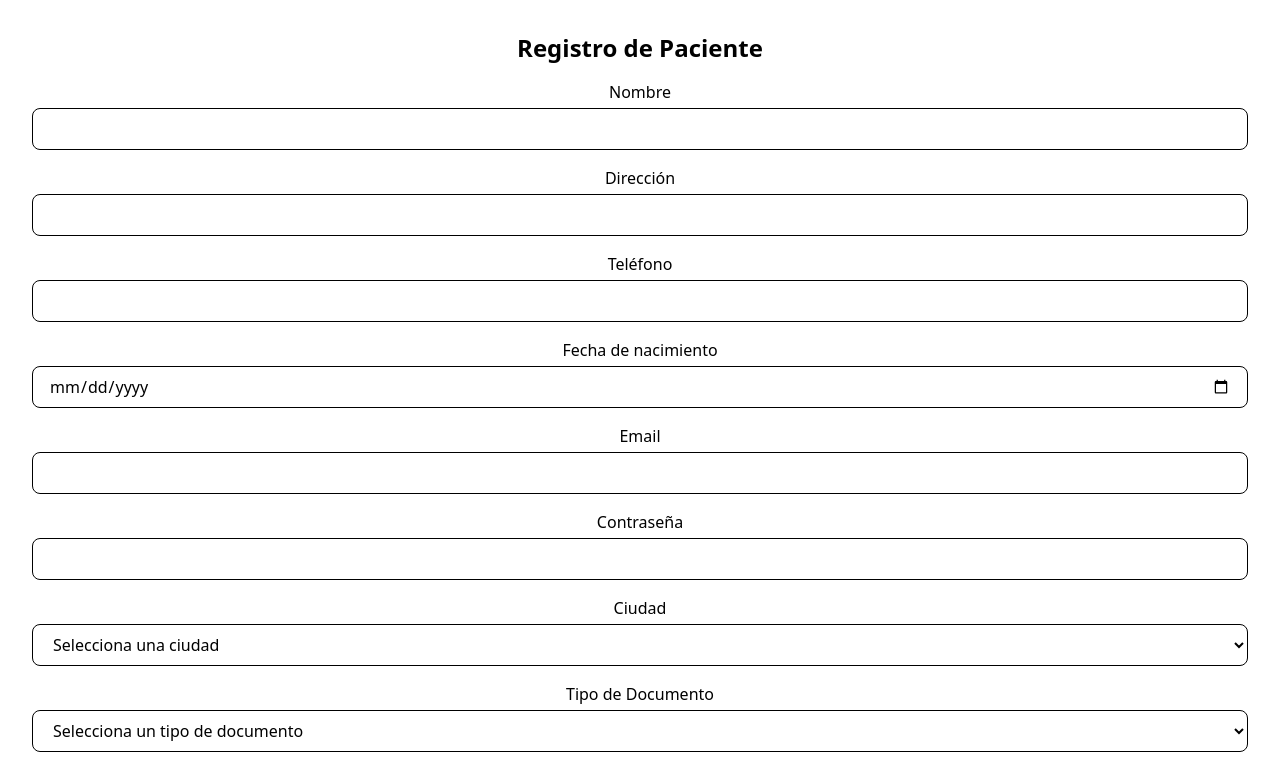
Scenario: RegistroForm › muestra feedback si el teléfono tiene menos de 10 dígitos y feedbackTel es false
Ingresa un teléfono con menos de 10 dígitos
Type "123" into the number field labelled "Teléfono" at (640, 301), box [32,280,1248,322]
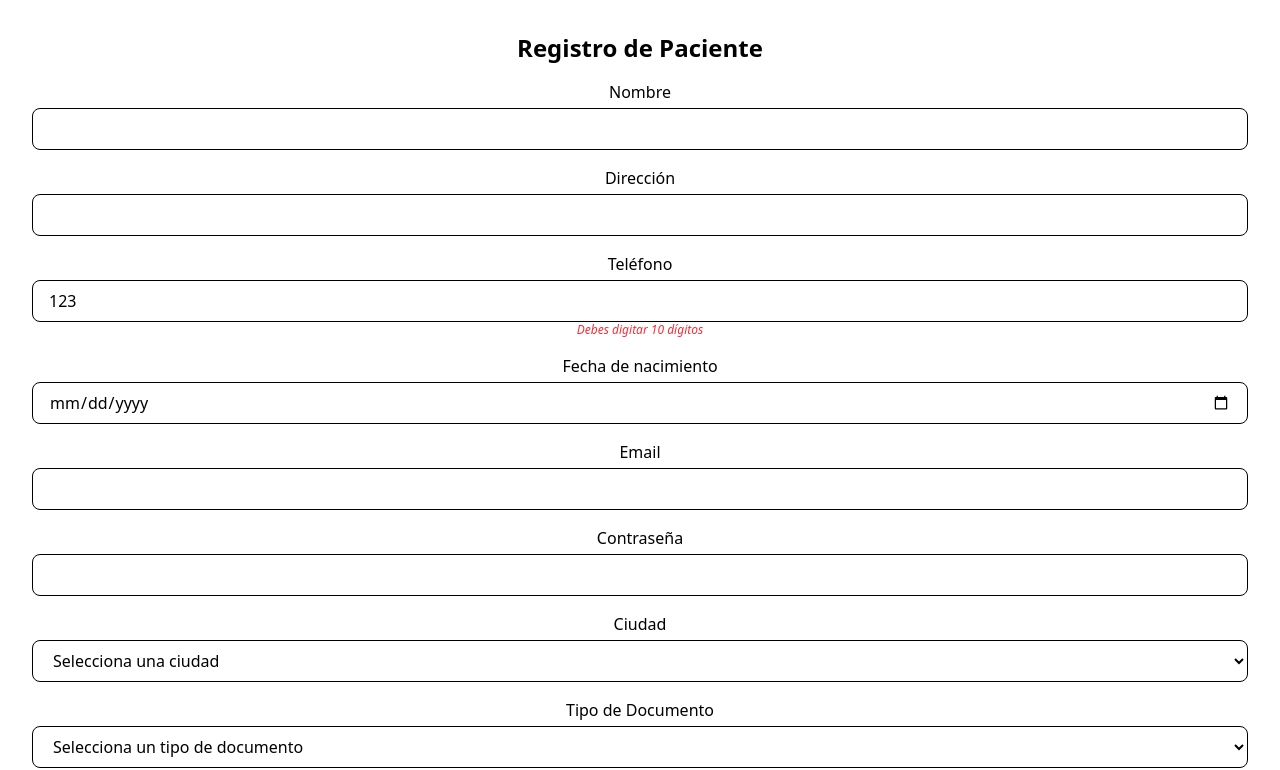
expect the text "Debes digitar 10 dígitos" is shown: met, box [577,321,703,338]
